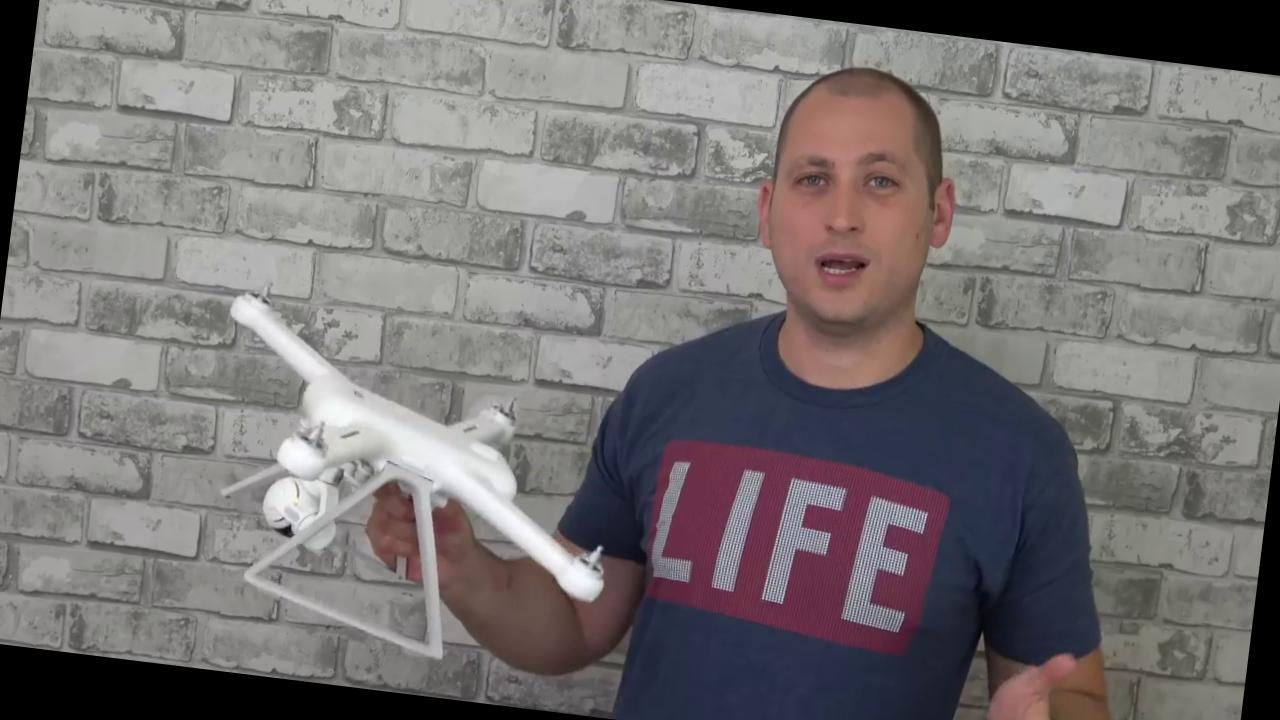drone: (185, 270, 654, 620)
